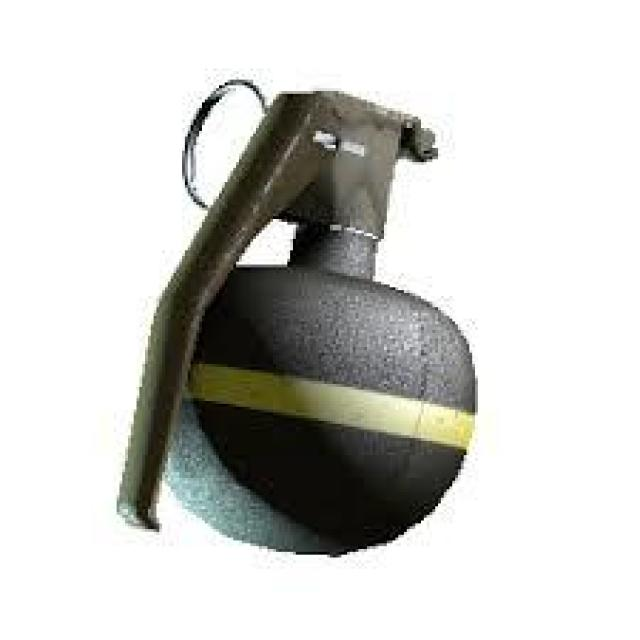grenade: (111, 77, 481, 557)
